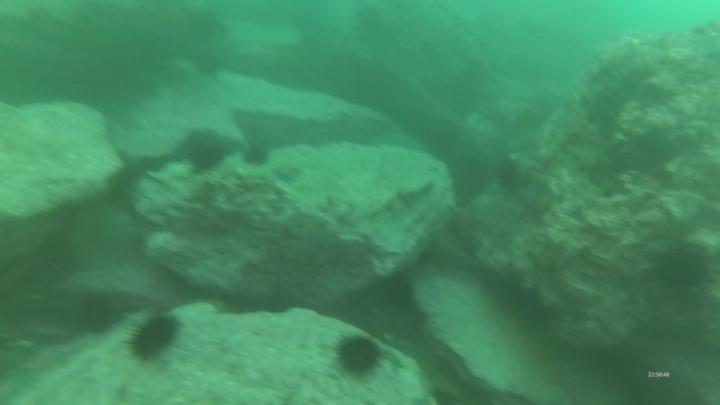echinus: (650, 241, 712, 294), (124, 311, 181, 365), (333, 332, 384, 379), (72, 290, 122, 337), (184, 137, 228, 175), (493, 157, 525, 193), (191, 49, 225, 80), (240, 141, 273, 171)
starfish: (565, 139, 610, 177), (270, 157, 306, 185)
